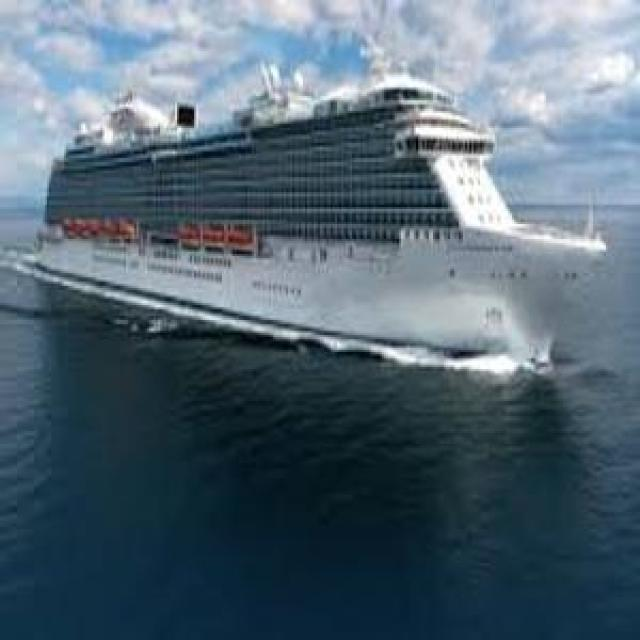passenger ship: (34, 77, 607, 365)
